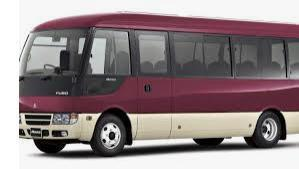bus: (18, 11, 298, 155)
